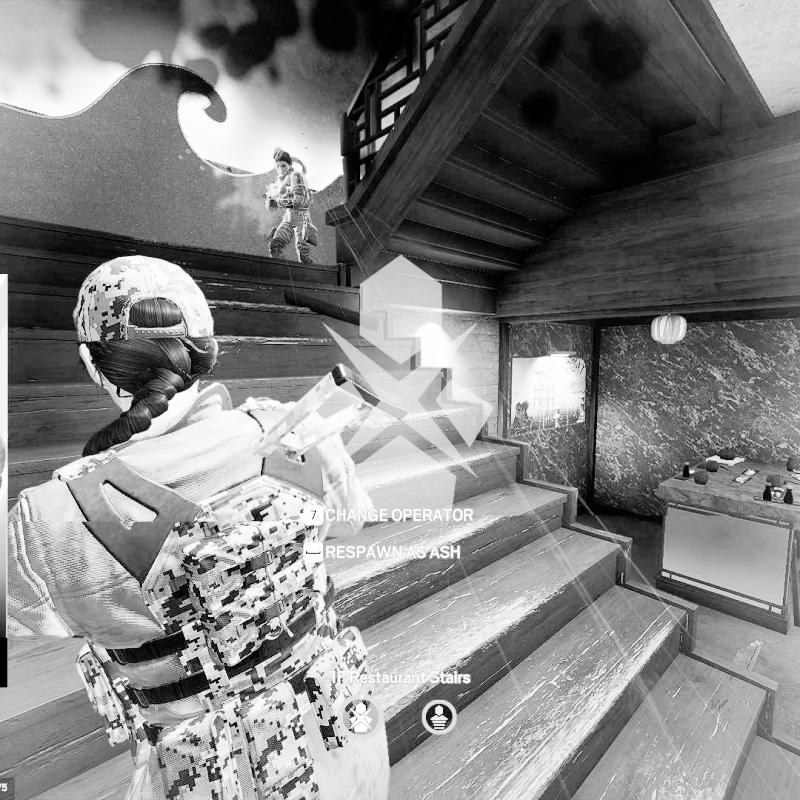Character: (0, 253, 393, 799), (264, 145, 322, 267)
Head: (74, 256, 220, 422), (270, 146, 294, 176)
